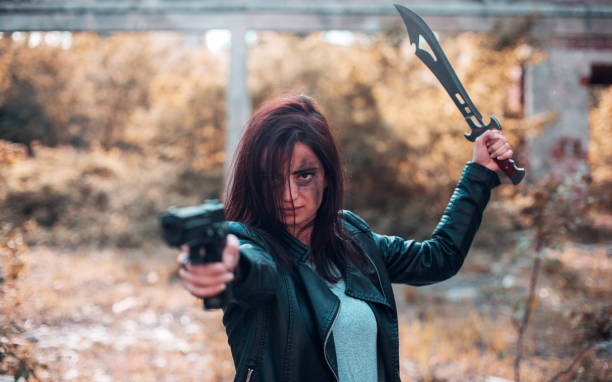gun: (160, 198, 231, 313)
knife: (392, 2, 526, 187)
